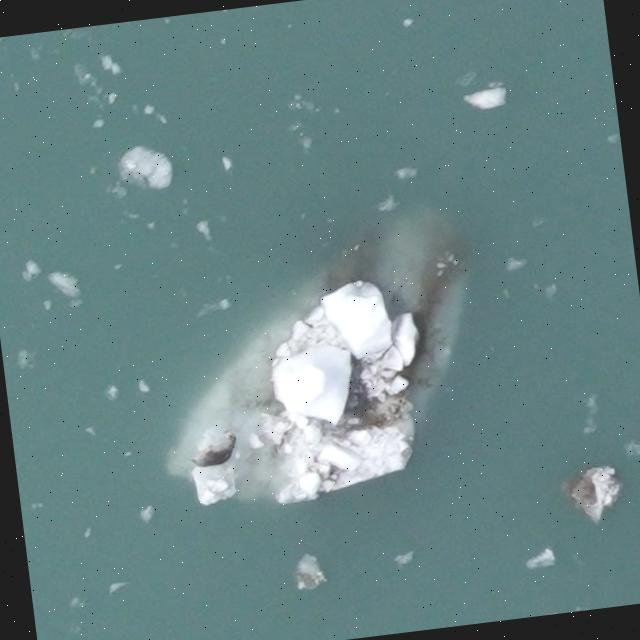seal: (188, 433, 235, 469)
